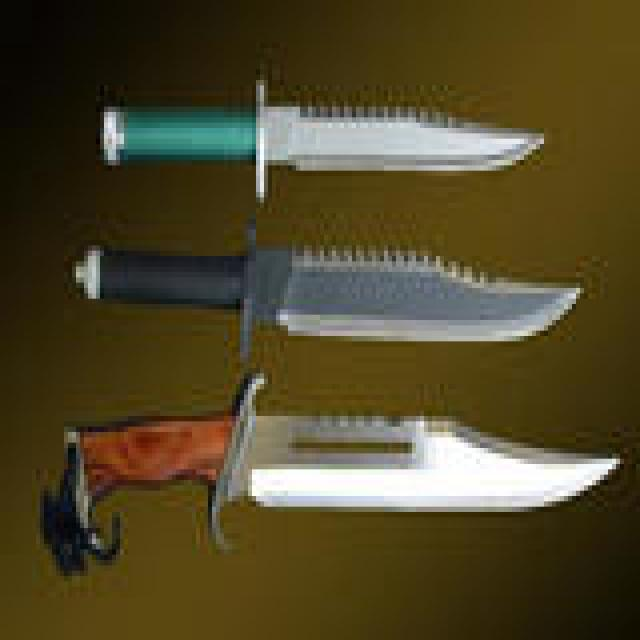Knife: (96, 91, 620, 570)
